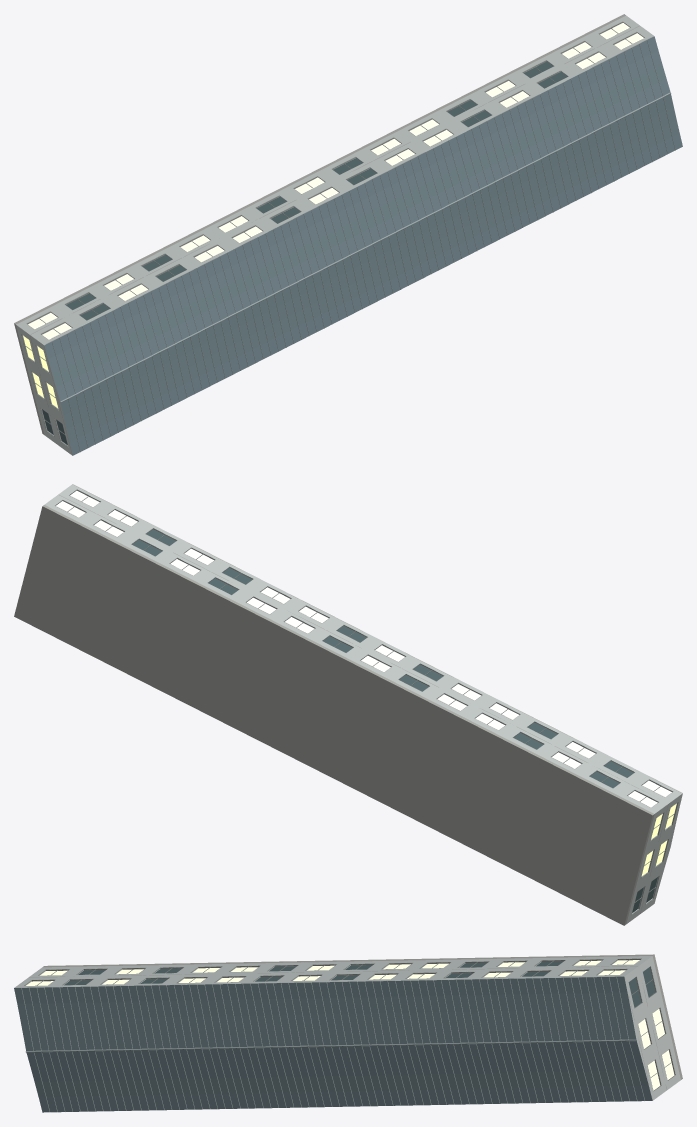
Rendered from industrial-near.glb.
3 renders of one model, top to bottom at view 1: azimuth 30°, elevation 25°; view 2: azimuth 150°, elevation 25°; view 3: azimuth 330°, elevation 25°, orthographic.
Visible parts, largest first — view 1: way/1309969566; view 2: way/1309969566; view 3: way/1309969566.
Boxes of the visible parts, left/top/right/bottom form: way/1309969566: left=14, top=14, right=682, bottom=455; way/1309969566: left=14, top=484, right=682, bottom=925; way/1309969566: left=14, top=954, right=682, bottom=1112.
Bounding box in the file's own units: 112 × 46.53 × 9.95.
